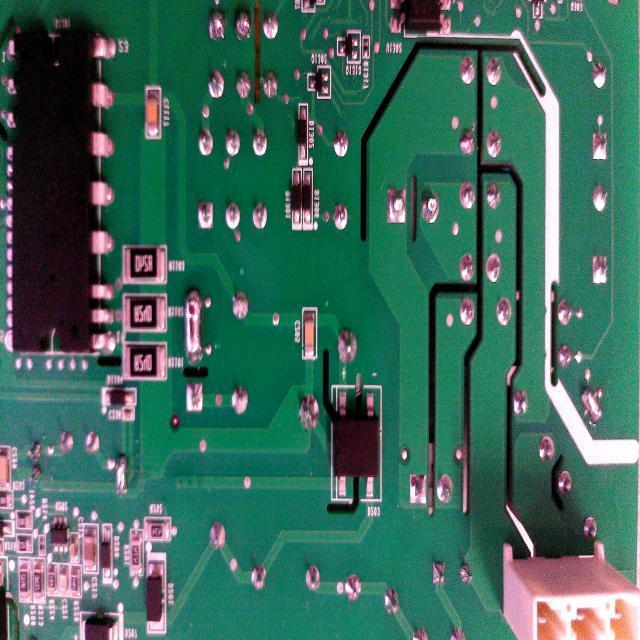Soldering shorted: (182, 284, 207, 368), (579, 379, 606, 426), (112, 449, 128, 499)
